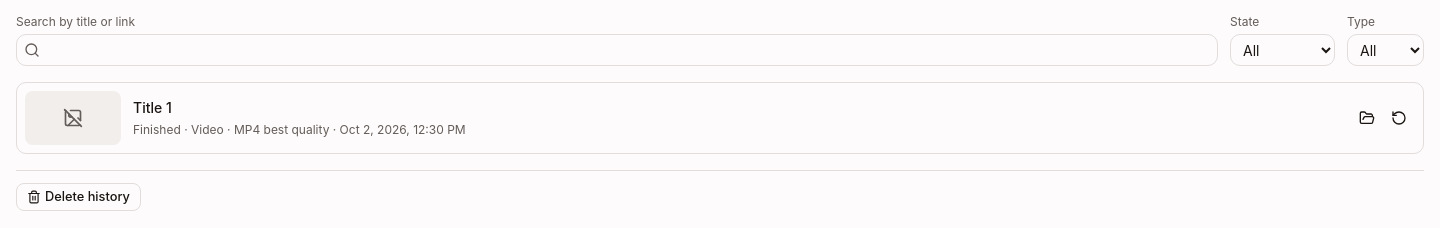
Test: the history › says when the history could not be deleted
Click the button "Delete history" at x=78, y=197, box [16,183,141,211]
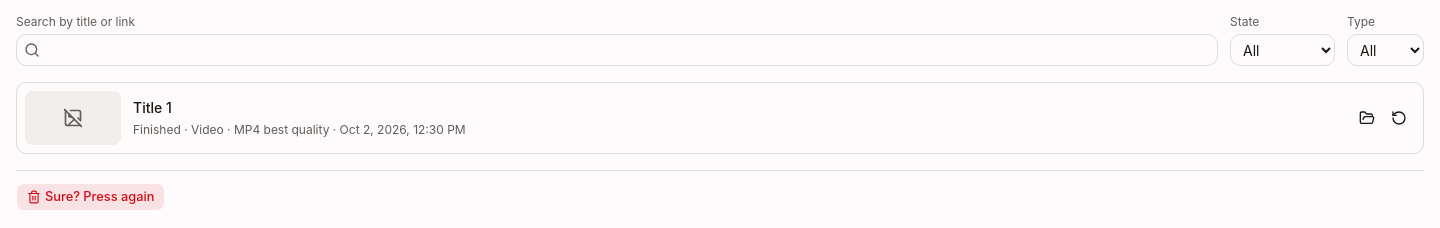
Click the button "Sure? Press again" at x=91, y=197, box [16,183,165,211]
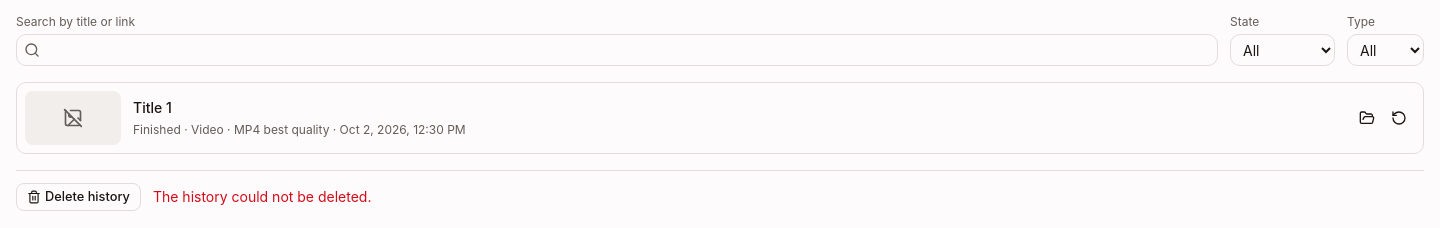
Check: the message reads "The history could not be deleted.", box [153,188,371,205]
